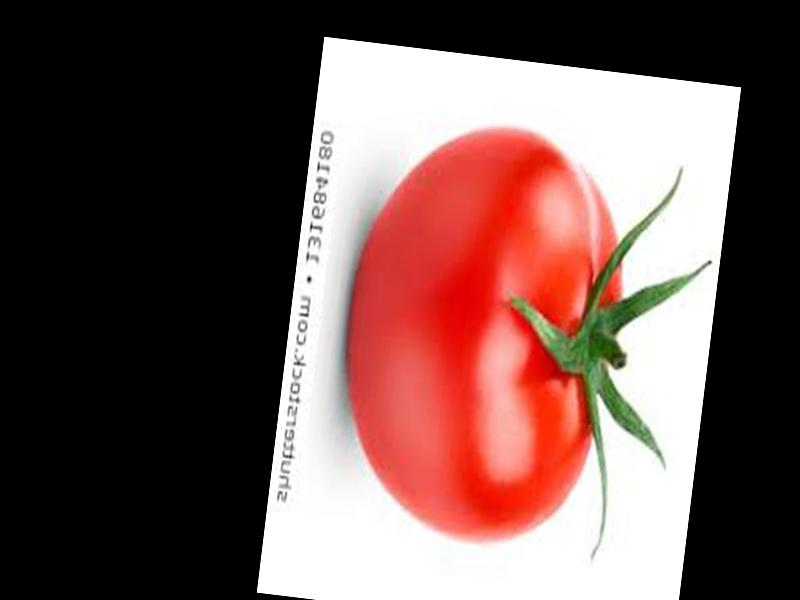Tomato: (328, 110, 637, 554)
